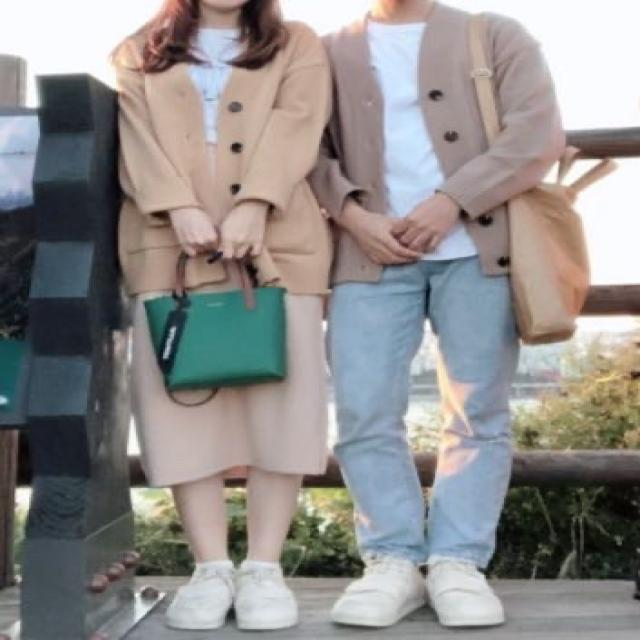cardigan: (313, 10, 569, 282), (112, 14, 335, 301)
denimpants: (324, 250, 520, 562)
skirt: (134, 139, 320, 492)
